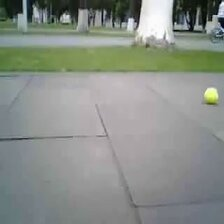tennis: (203, 87, 219, 103)
